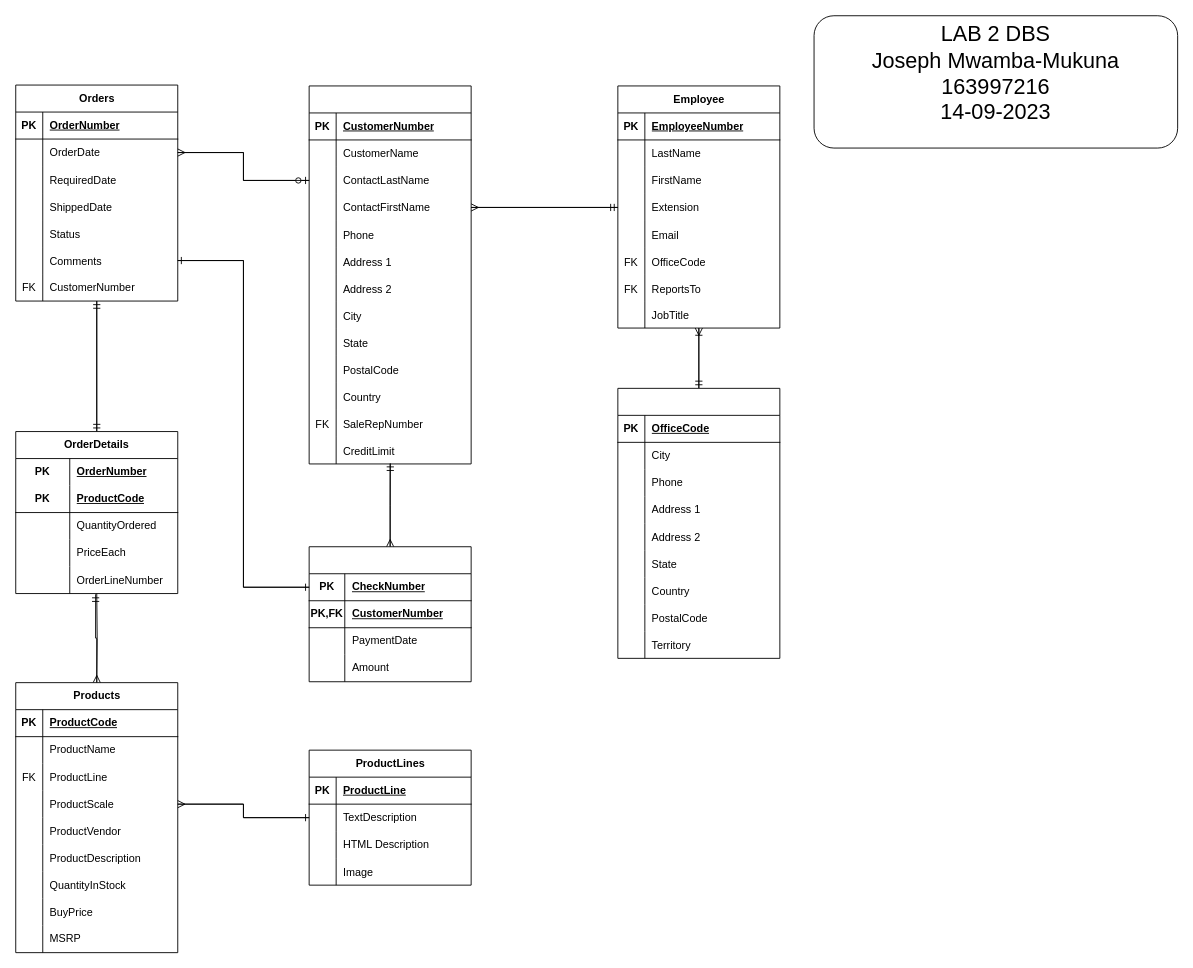
The diagram is 1193 pixels wide and 968 high, and some of its shapes have lost their labels. The shapes that lost their labels are listed below. From the top down, each one's box as (x1, y1, x2, y2) in pixels, then its label:
(308, 85, 471, 464): Customers
(617, 387, 780, 658): Offices
(308, 546, 471, 682): Payments
